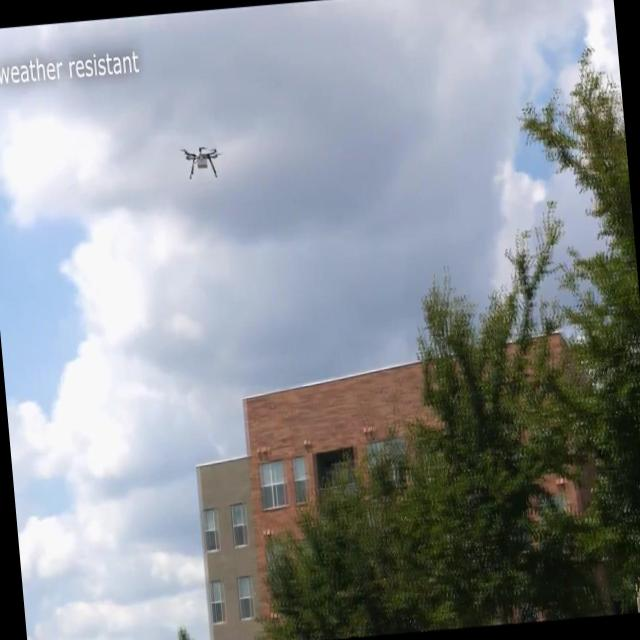drone: (181, 140, 223, 184)
